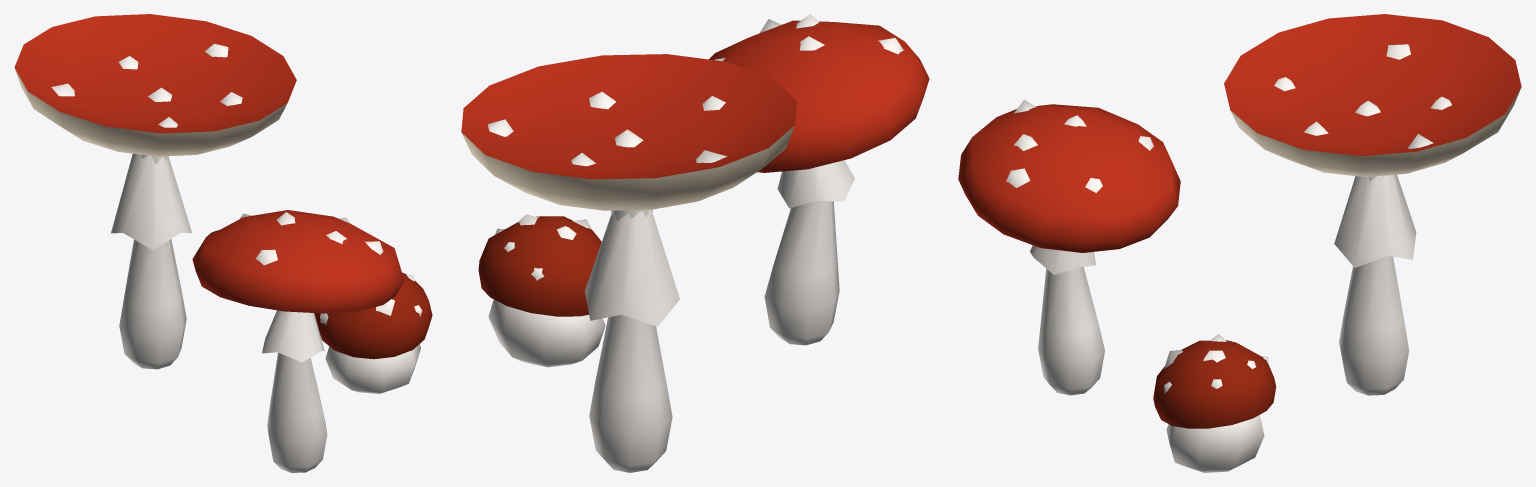
Rendered from Fly_Agaric_Group_2.glb.
3 views of the same model, side by side, from view 1: azimuth 30°, elevation 25°; view 2: azimuth 150°, elevation 25°; view 3: azimuth 270°, elevation 25° (orthographic). The views are drawn at different scales.
Visible parts, largest first — view 1: Fly_Agaric_Group_2; view 2: Fly_Agaric_Group_2; view 3: Fly_Agaric_Group_2.
Boxes of the visible parts, x1,y1,x2,y2 form: Fly_Agaric_Group_2: (14, 14, 432, 472); Fly_Agaric_Group_2: (461, 14, 929, 472); Fly_Agaric_Group_2: (958, 14, 1521, 472).
Bounding box in the file's own units: 0.4968 × 0.446 × 0.7284.
Materials: 1 (1 with a texture image).
